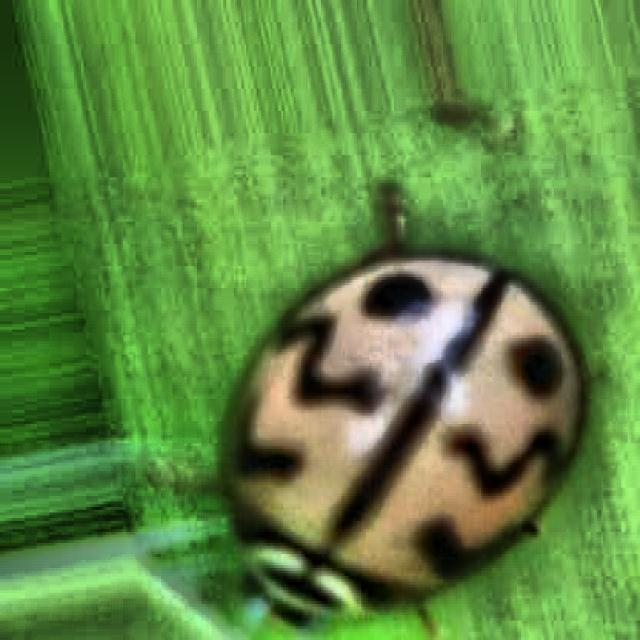Asian-Lady-beetle: (181, 137, 598, 640)
